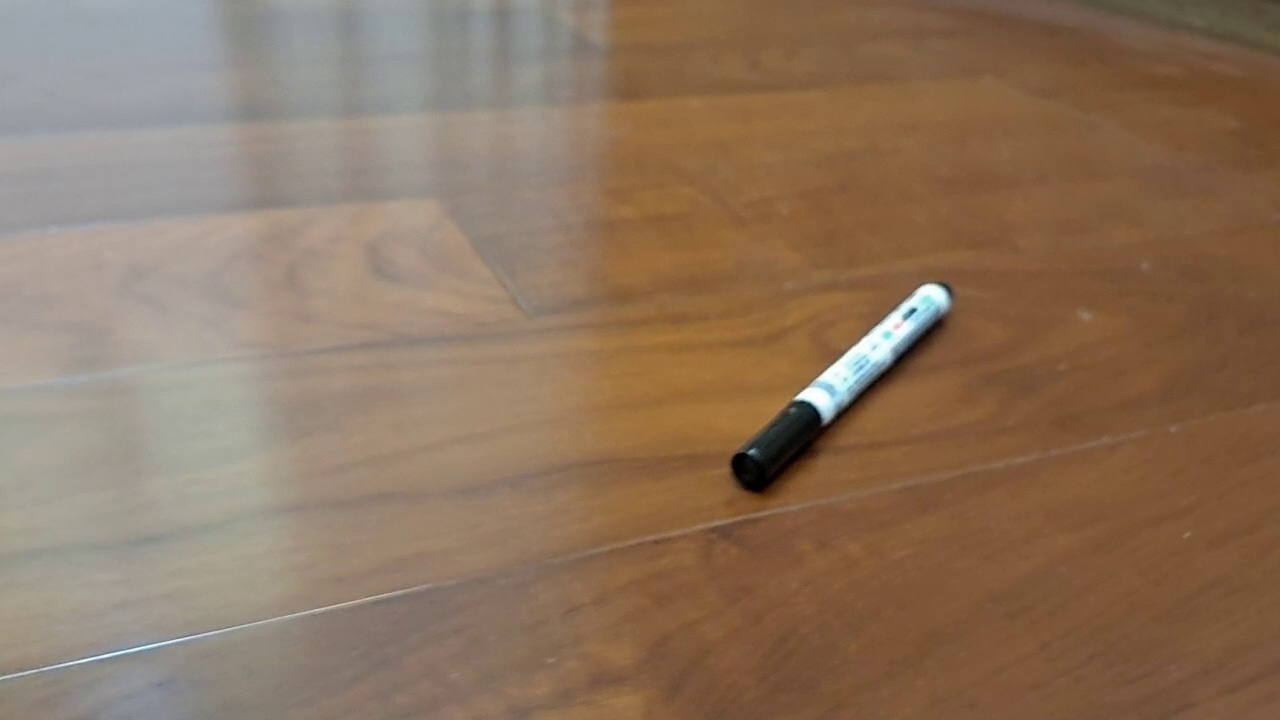pen: (731, 281, 955, 493)
